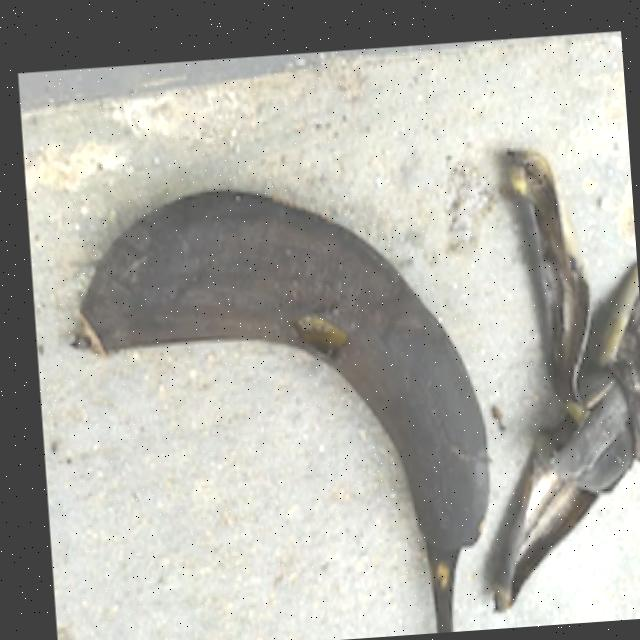Rotten: (41, 117, 525, 640)
